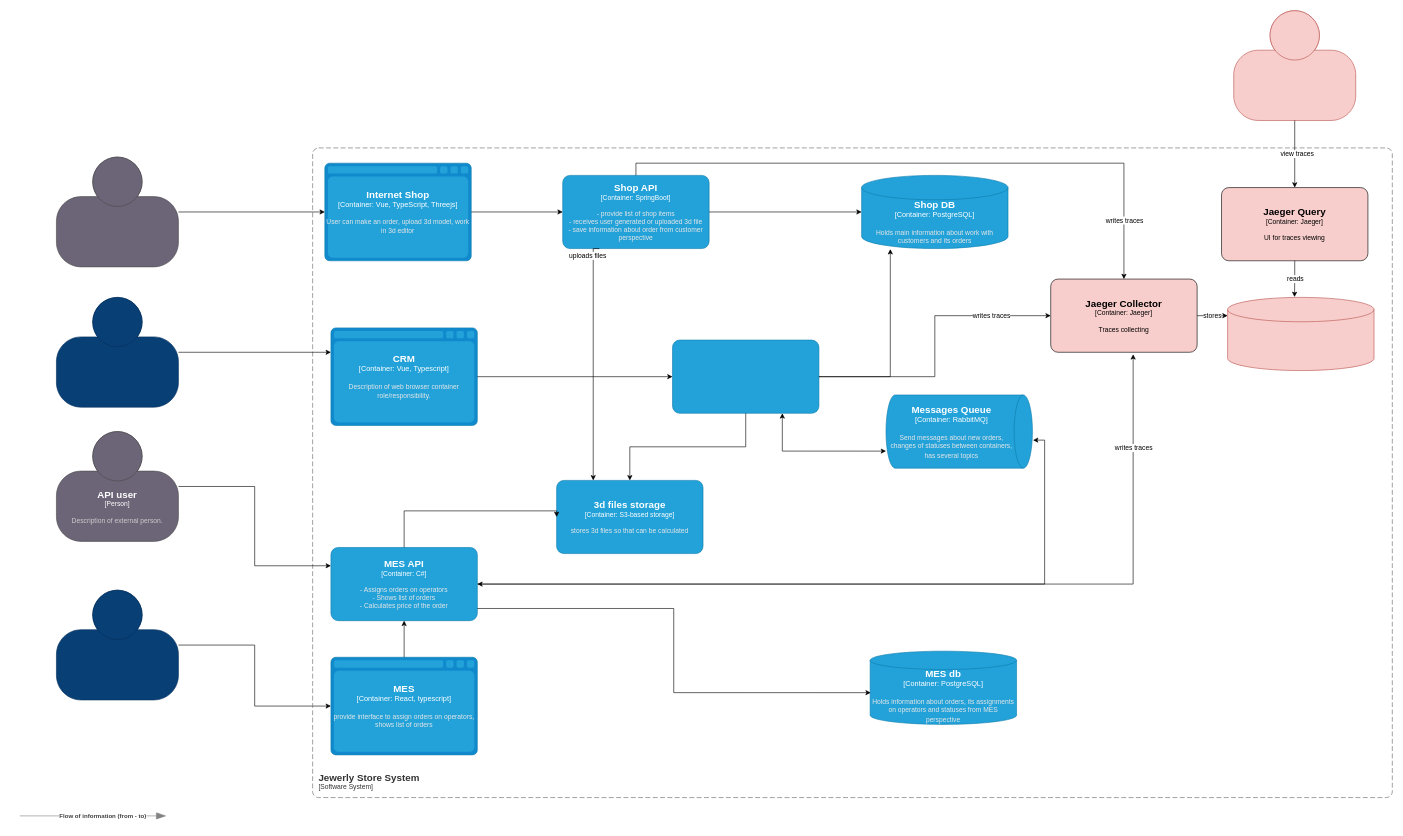
This 1403x836 diagram has some shape labels left out. The shapes that lost their labels are listed below. From the top down, each one's centre as x and y in pixels, then its label:
the point at 1294,65: Developer [Person] Developer
the point at 117,211: Customer [Person] Description of external person.
the point at 117,352: Seller [Person] Operates with order, confirms manufacturing for the user
the point at 1300,334: ElasticSearch [Container: ElasticSearch] Storage for traces
the point at 745,376: CRM API [Container: SpringBoot] Description of container role/responsibility.
the point at 117,645: Operator [Person] Takes order in work, manufactures jewerly
